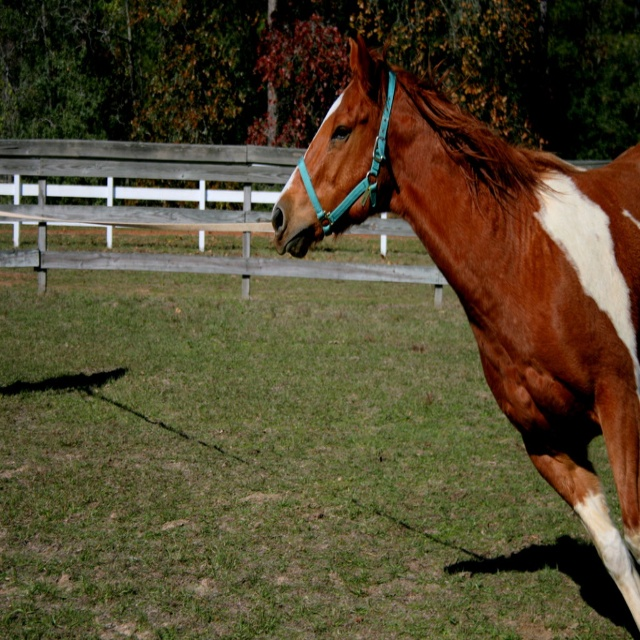Horse: (271, 29, 640, 632)
